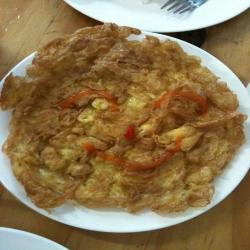apple_pie: (5, 30, 244, 224)
